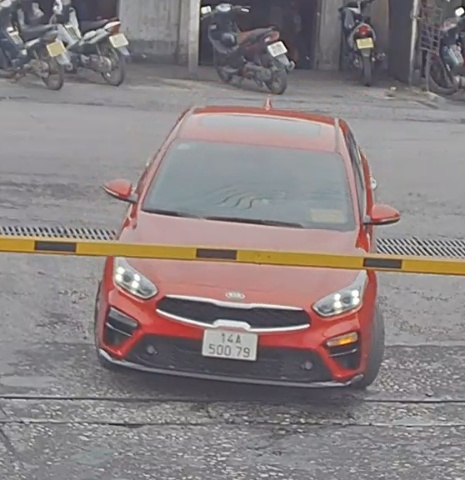vehicle plate: (200, 323, 257, 362)
